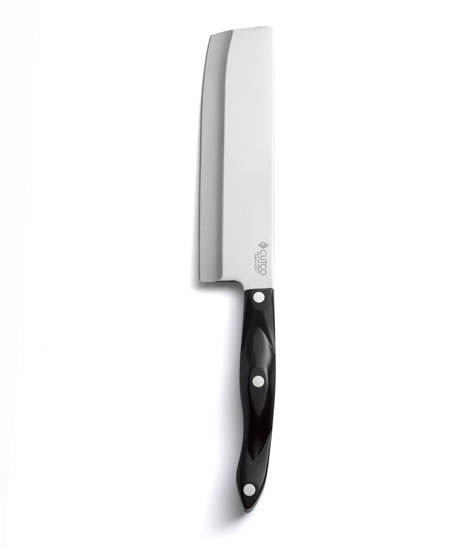knife: (221, 27, 277, 511)
